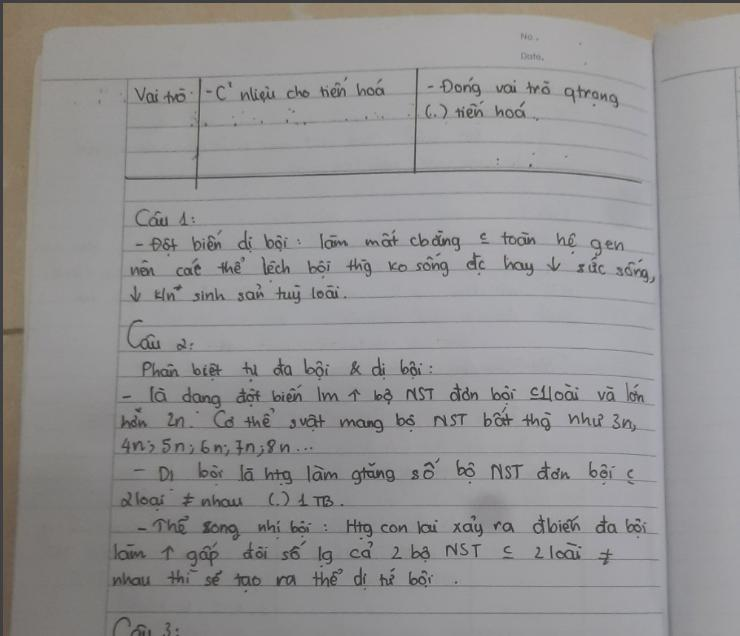text: (132, 225, 627, 261), (129, 456, 638, 490), (120, 379, 648, 411), (135, 511, 651, 543), (111, 537, 614, 569), (127, 255, 657, 285), (118, 405, 639, 435), (108, 565, 436, 597), (140, 354, 435, 385), (424, 75, 622, 110), (118, 486, 345, 515), (126, 281, 349, 308), (204, 76, 388, 105), (118, 434, 315, 461), (422, 97, 528, 123), (124, 316, 196, 354), (105, 614, 185, 636), (131, 207, 190, 230), (132, 84, 191, 105)
